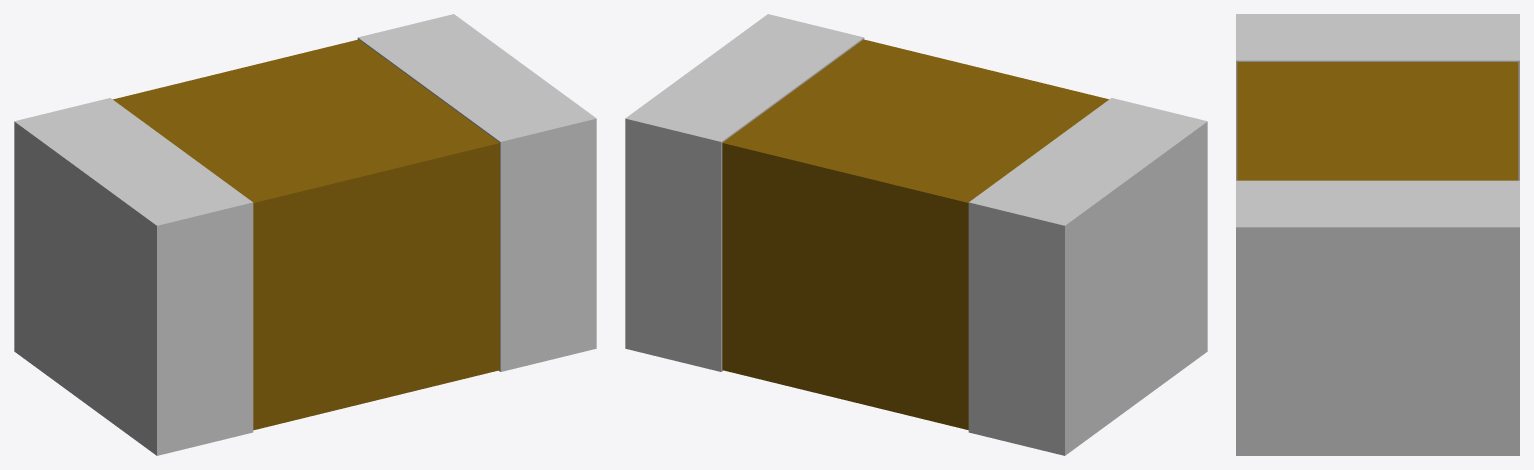
File: CAP0603.obj
3 views of the same model, side by side, from view 1: azimuth 30°, elevation 25°; view 2: azimuth 150°, elevation 25°; view 3: azimuth 270°, elevation 25° (orthographic).
Visible parts, largest first — view 1: Solid1; view 2: Solid1; view 3: Solid1.
Boxes of the visible parts, x1=… form: Solid1: x1=14, y1=14, x2=596, y2=455; Solid1: x1=625, y1=14, x2=1207, y2=455; Solid1: x1=1236, y1=14, x2=1519, y2=455.
Bounding box in the file's own units: 1.6 × 0.8 × 0.9.
